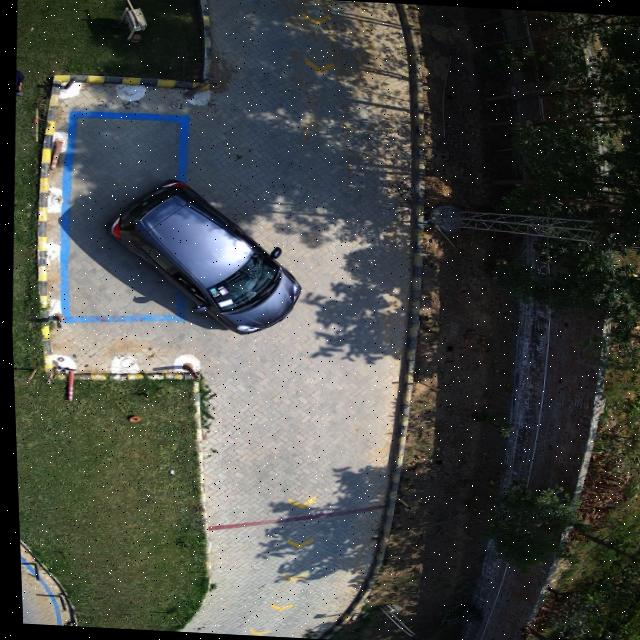car: (106, 179, 297, 334)
